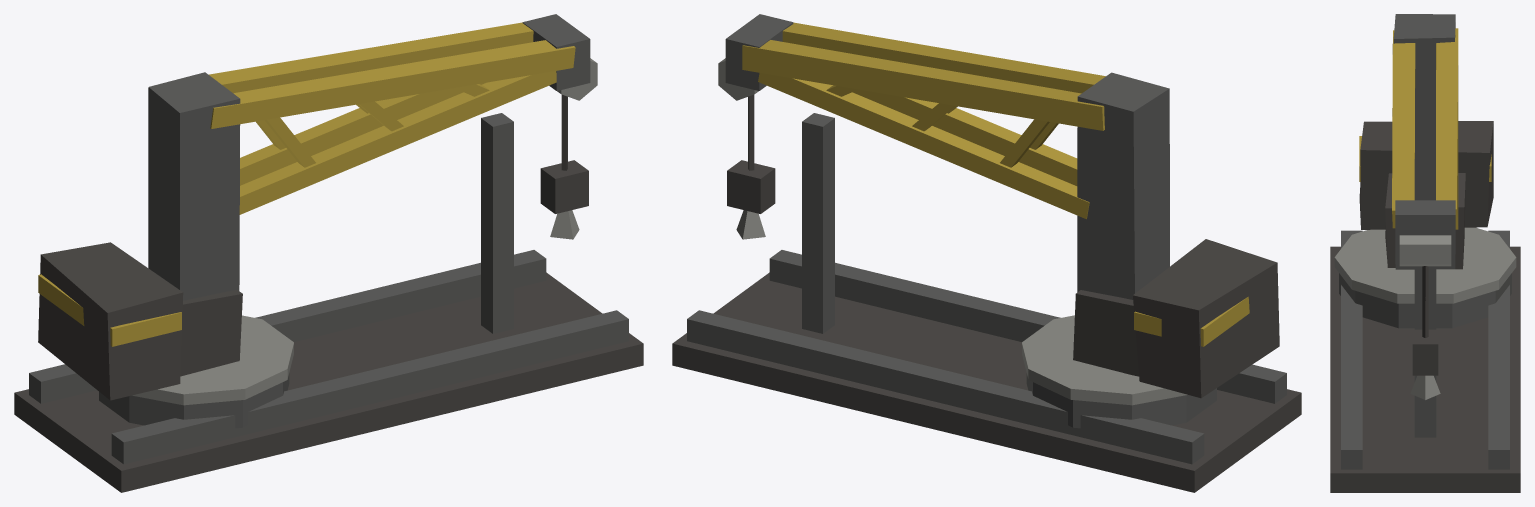
File: util_crane.glb
3 views of the same model, side by side, from view 1: azimuth 30°, elevation 25°; view 2: azimuth 150°, elevation 25°; view 3: azimuth 270°, elevation 25° (orthographic). The views are drawn at different scales.
Parts seen in each view (by area): view 1: util_crane; view 2: util_crane; view 3: util_crane.
Boxes of the visible parts, bbox=[...] form: util_crane: bbox=[14, 14, 643, 492]; util_crane: bbox=[672, 14, 1301, 492]; util_crane: bbox=[1330, 14, 1520, 492].
Bounding box in the file's own units: 1.24 × 0.7532 × 0.44.
